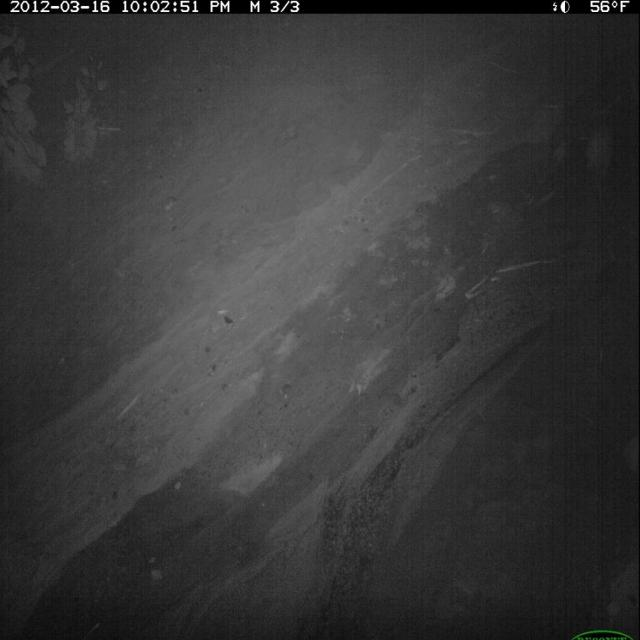opossum: (580, 107, 620, 190)
